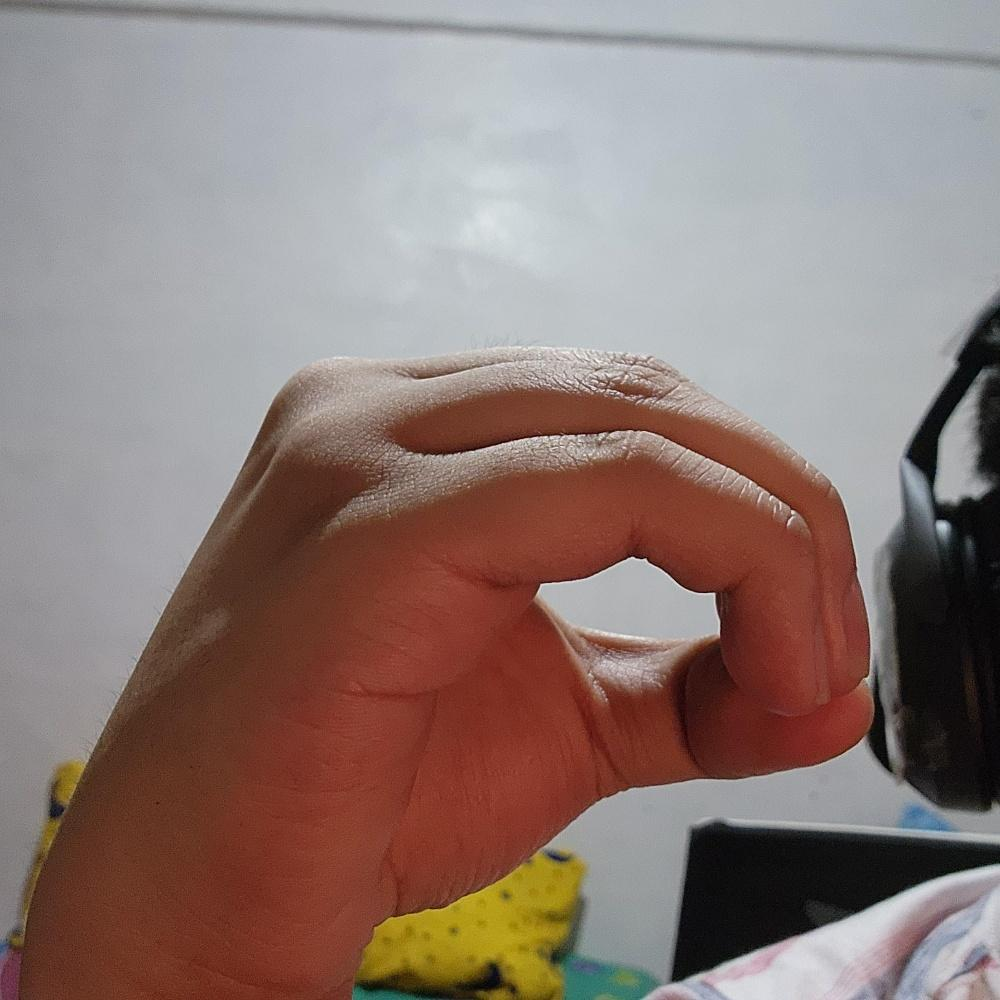o: (66, 343, 876, 927)
